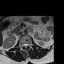CCS_normal: (25, 42, 26, 49)
LFS_normal: (28, 41, 30, 47)
LLS_normal: (26, 42, 28, 48)
RFS_normal: (21, 42, 23, 48)
RLS_normal: (23, 42, 25, 48)
